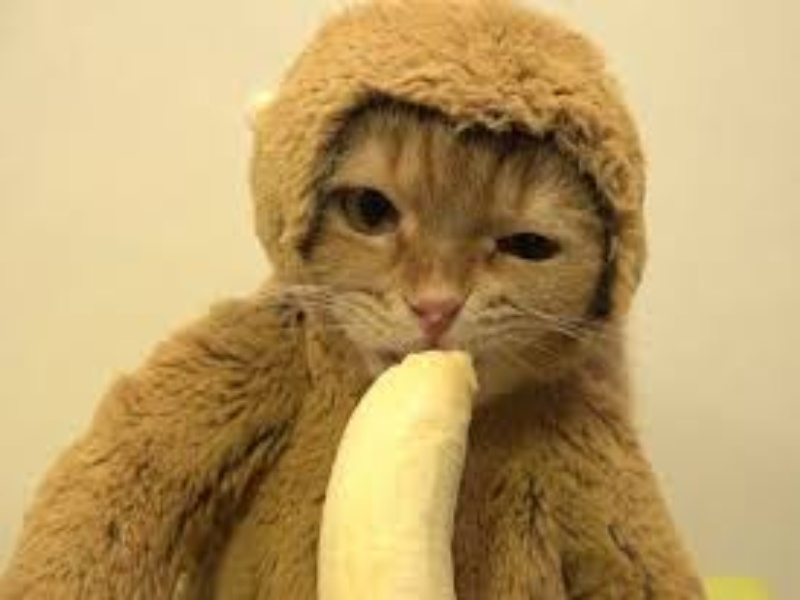dog: (124, 1, 707, 596)
